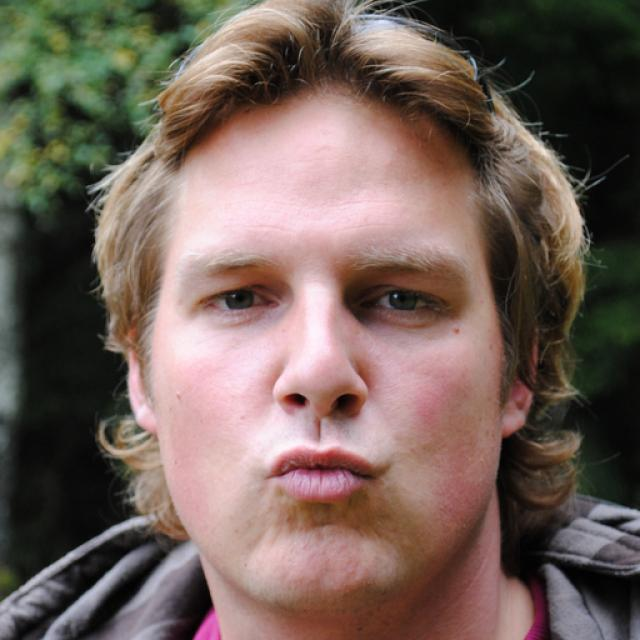0_rostro_limpio: (125, 0, 543, 614)
